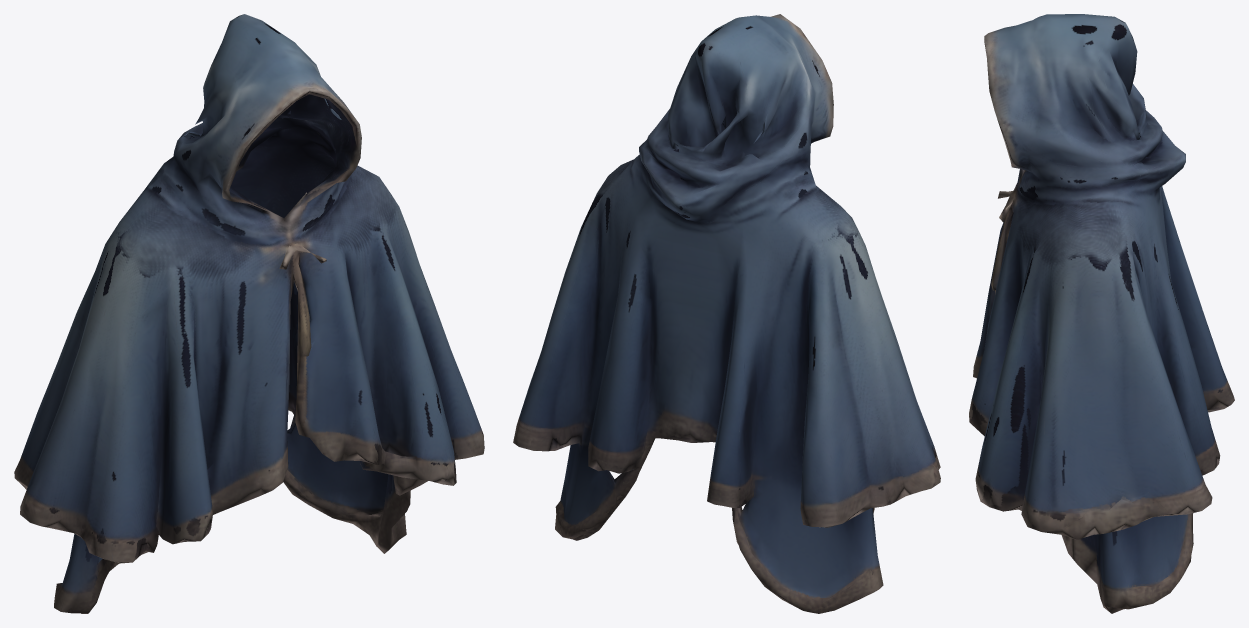
Rendered from hood.glb.
The picture shows the model from 3 angles, left to right: view 1: azimuth 30°, elevation 25°; view 2: azimuth 150°, elevation 25°; view 3: azimuth 270°, elevation 25°; orthographic projection. The views are drawn at different scales.
Visible parts, largest first — view 1: geometry_0; view 2: geometry_0; view 3: geometry_0.
Part boxes in pixels (bbox=[...]): geometry_0: bbox=[14, 14, 484, 613]; geometry_0: bbox=[513, 14, 940, 613]; geometry_0: bbox=[969, 14, 1234, 613].
Bounding box in the file's own units: 0.7864 × 0.9986 × 0.4496.
1 material, 1 textured.
